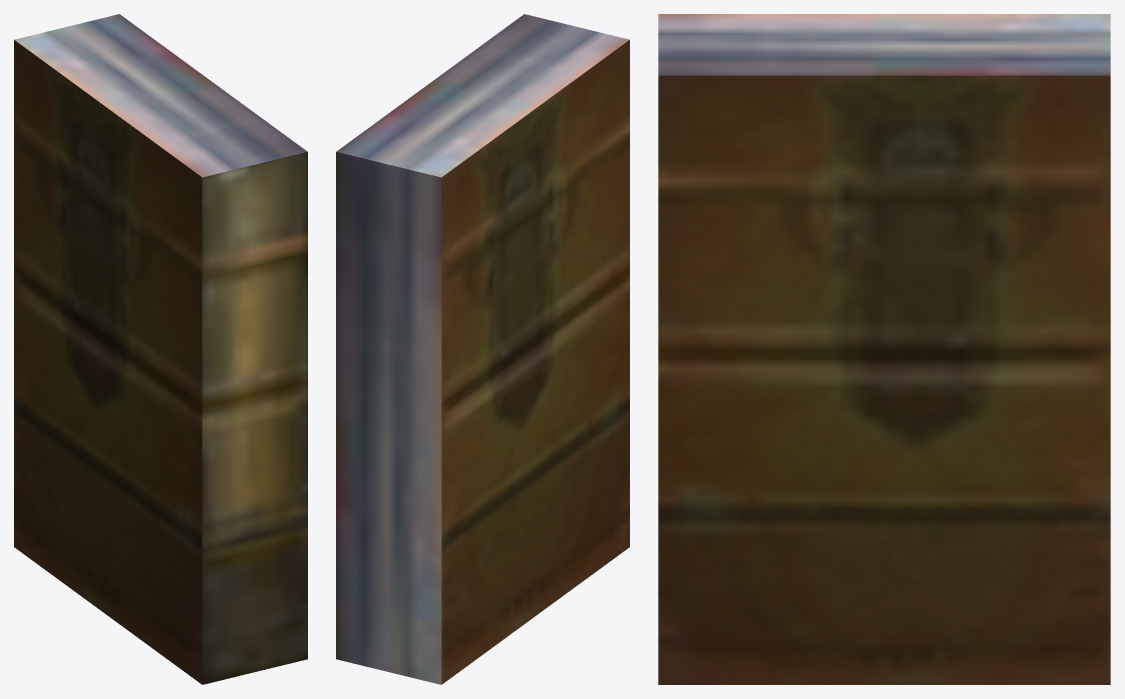
Rendered from F_shu004.fbx.
3 views of the same model, side by side, from view 1: azimuth 30°, elevation 25°; view 2: azimuth 150°, elevation 25°; view 3: azimuth 270°, elevation 25° (orthographic). The views are drawn at different scales.
Parts seen in each view (by area): view 1: F_shu004; view 2: F_shu004; view 3: F_shu004.
Boxes of the visible parts, x1,y1,x2,y2 form: F_shu004: [14, 14, 307, 684]; F_shu004: [336, 14, 629, 684]; F_shu004: [658, 14, 1110, 684].
Size of the model in its own units: 10.85 by 49.93 by 33.58.
